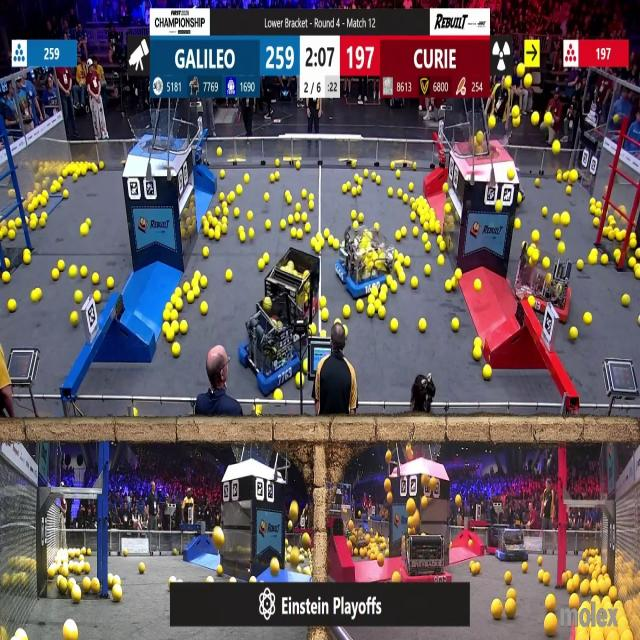ball_airborne: (288, 501, 298, 520), (408, 498, 417, 513), (543, 112, 551, 126), (531, 112, 539, 125), (513, 106, 521, 118), (410, 516, 418, 528), (554, 141, 562, 153), (518, 64, 526, 76), (524, 75, 532, 87), (489, 115, 496, 127), (495, 202, 502, 214), (475, 133, 482, 144), (421, 497, 428, 508), (507, 169, 514, 180), (385, 480, 391, 492), (505, 76, 511, 87), (387, 492, 393, 503), (514, 116, 520, 126), (386, 451, 392, 461), (456, 495, 461, 505)
ball_ground: (544, 616, 556, 638), (64, 622, 78, 640), (214, 530, 224, 550), (504, 600, 515, 618), (492, 600, 502, 619), (544, 594, 554, 612), (578, 580, 589, 596), (112, 587, 121, 603), (72, 588, 81, 604), (271, 559, 280, 575), (92, 580, 101, 594), (484, 364, 492, 379), (32, 288, 41, 301), (379, 289, 388, 302), (70, 312, 78, 326), (570, 595, 578, 609), (608, 588, 616, 602), (470, 562, 479, 574), (173, 343, 180, 358), (24, 250, 32, 263), (419, 319, 427, 332), (452, 318, 460, 331), (562, 212, 570, 225), (80, 223, 88, 236), (590, 251, 598, 264), (82, 577, 90, 590), (568, 170, 576, 183), (295, 374, 302, 388), (472, 348, 480, 360), (7, 300, 15, 312), (585, 313, 593, 325), (74, 290, 82, 302), (70, 267, 78, 279), (629, 237, 637, 249), (566, 582, 574, 594), (303, 533, 311, 545), (390, 319, 397, 332), (180, 321, 187, 334), (506, 590, 515, 600), (2, 273, 10, 284), (171, 321, 179, 332), (570, 327, 577, 339), (412, 277, 419, 289), (623, 294, 630, 306), (379, 307, 386, 319), (95, 290, 102, 302), (344, 307, 351, 319), (504, 570, 511, 582), (167, 332, 174, 344), (378, 554, 385, 566), (82, 562, 89, 574), (275, 390, 283, 400), (392, 571, 400, 581), (79, 268, 87, 278), (164, 311, 172, 321), (171, 311, 179, 321), (616, 231, 624, 241), (202, 303, 208, 316), (303, 359, 309, 372), (225, 271, 232, 282), (321, 310, 328, 321), (201, 277, 208, 288), (601, 254, 608, 265), (107, 278, 114, 289), (558, 243, 565, 254), (59, 262, 66, 273), (532, 232, 539, 243), (175, 300, 182, 311), (93, 274, 100, 285), (366, 307, 373, 318), (302, 212, 309, 223), (554, 213, 561, 224), (30, 219, 37, 230), (474, 280, 480, 292), (140, 562, 146, 574), (542, 572, 548, 584), (446, 280, 452, 292), (212, 216, 220, 225), (203, 247, 210, 257), (51, 270, 58, 280), (473, 338, 480, 348), (576, 262, 583, 272), (515, 218, 522, 228), (8, 231, 15, 241), (254, 407, 261, 417), (293, 213, 300, 223), (390, 283, 397, 293), (356, 302, 363, 312), (629, 257, 636, 267), (113, 574, 120, 584), (394, 263, 401, 273), (562, 172, 569, 182), (187, 291, 193, 302), (424, 266, 430, 277), (522, 562, 528, 573), (108, 574, 114, 585), (4, 257, 10, 268), (164, 321, 170, 332), (204, 224, 210, 235), (286, 192, 292, 203), (311, 324, 317, 335), (562, 572, 568, 583), (445, 205, 452, 214), (220, 224, 227, 233), (299, 189, 306, 198), (589, 206, 596, 215), (556, 230, 562, 240), (320, 296, 326, 306), (266, 220, 272, 230), (235, 208, 241, 218), (455, 270, 461, 280), (217, 566, 223, 576), (306, 222, 312, 232), (258, 261, 264, 271), (183, 282, 189, 292), (444, 183, 450, 193), (265, 253, 271, 263), (176, 287, 182, 297), (440, 254, 446, 264), (594, 217, 600, 227), (541, 207, 547, 217), (403, 256, 409, 266), (398, 275, 404, 285), (214, 231, 220, 241), (14, 218, 20, 228), (193, 286, 199, 296), (327, 238, 333, 248), (40, 218, 46, 228), (247, 211, 253, 221), (226, 194, 232, 204), (616, 249, 622, 259), (538, 570, 543, 582), (528, 296, 534, 306), (335, 240, 341, 250), (393, 250, 399, 260), (387, 276, 393, 286), (602, 228, 608, 238), (607, 231, 613, 241), (420, 214, 427, 222), (395, 232, 401, 241), (244, 174, 250, 183), (412, 212, 418, 221), (237, 185, 243, 194), (425, 243, 431, 252), (413, 229, 419, 238), (288, 215, 294, 224), (388, 187, 394, 196), (423, 222, 429, 231), (315, 244, 321, 253), (402, 193, 408, 202), (215, 208, 221, 217), (308, 202, 314, 211), (222, 208, 228, 217), (400, 229, 406, 238), (93, 166, 99, 175), (343, 186, 349, 195), (318, 239, 324, 248), (281, 219, 286, 229), (241, 234, 246, 244), (635, 269, 640, 279), (537, 556, 542, 566), (358, 213, 363, 223), (435, 222, 440, 232), (351, 211, 356, 221), (516, 195, 521, 205), (0, 230, 5, 240), (589, 200, 596, 207), (207, 575, 213, 583), (320, 329, 326, 337), (566, 186, 572, 194), (250, 575, 256, 583), (192, 272, 198, 280), (367, 295, 373, 303), (375, 222, 381, 230), (216, 148, 222, 156), (221, 216, 227, 224), (557, 174, 563, 182), (50, 185, 56, 193), (396, 188, 402, 196), (40, 199, 46, 207), (316, 234, 322, 242), (133, 411, 139, 419), (172, 549, 178, 557), (596, 202, 602, 210), (40, 212, 46, 220), (291, 230, 296, 239), (296, 231, 301, 240), (249, 230, 254, 239), (324, 230, 329, 239), (423, 234, 428, 243), (441, 243, 446, 252), (351, 186, 356, 195), (272, 173, 277, 182), (88, 218, 94, 225), (231, 576, 237, 583), (412, 204, 418, 211), (435, 236, 441, 243), (64, 189, 69, 197), (100, 163, 105, 171), (295, 204, 300, 212), (73, 174, 78, 182), (210, 230, 214, 240), (363, 170, 368, 178), (413, 163, 418, 171), (635, 249, 640, 257), (276, 160, 281, 168), (307, 194, 312, 202), (354, 175, 359, 183), (191, 280, 196, 288), (370, 174, 375, 182), (222, 200, 227, 208), (353, 220, 358, 228), (81, 168, 86, 176), (351, 161, 356, 169), (396, 170, 400, 179), (535, 178, 539, 187), (312, 239, 316, 248), (358, 178, 362, 187), (636, 316, 640, 325), (296, 567, 301, 574), (59, 176, 64, 183), (220, 170, 224, 178), (266, 192, 270, 200), (220, 191, 224, 199), (377, 176, 381, 184), (295, 163, 299, 171), (172, 294, 176, 302), (123, 550, 127, 558), (345, 327, 349, 335), (208, 210, 212, 218), (410, 183, 414, 190), (389, 162, 393, 169), (203, 215, 207, 222), (240, 225, 244, 231), (170, 576, 173, 583)
goal: (460, 119, 515, 159), (129, 116, 186, 151)
robot_blue: (240, 306, 310, 394), (336, 226, 392, 298), (495, 522, 527, 561)
robot_red: (516, 252, 574, 323), (265, 252, 319, 322), (403, 531, 451, 585), (485, 523, 500, 554)
